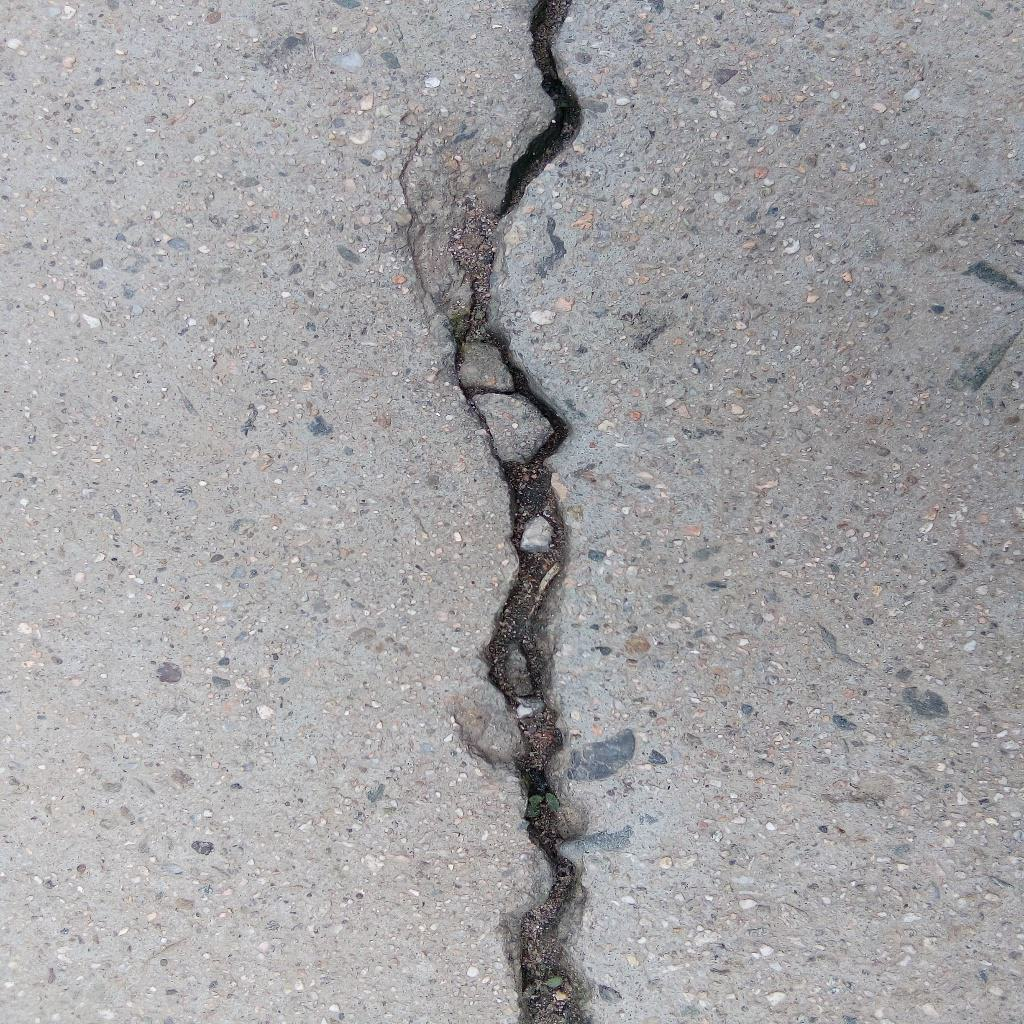Crack: (443, 1, 585, 1024)
Spalling: (396, 108, 510, 321)
